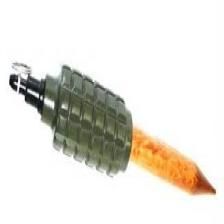POMZ2: (7, 52, 224, 224)
